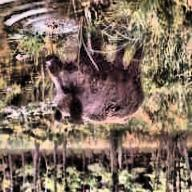boar: (40, 36, 159, 134)
